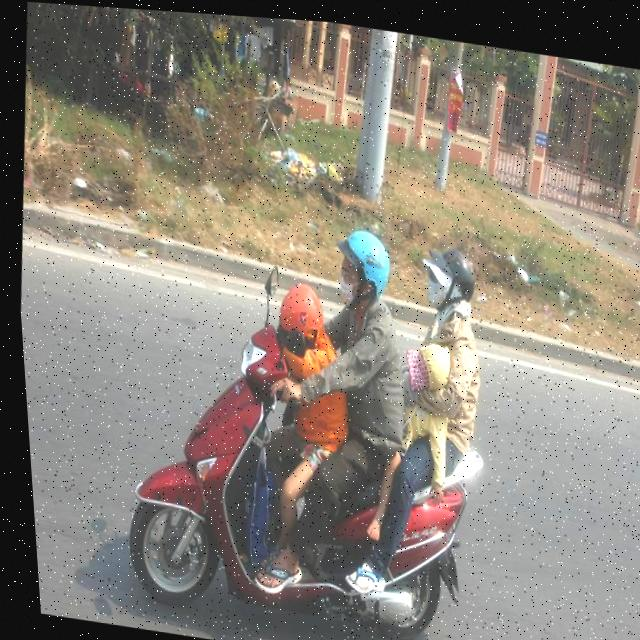motorcycle: (103, 296, 507, 640)
